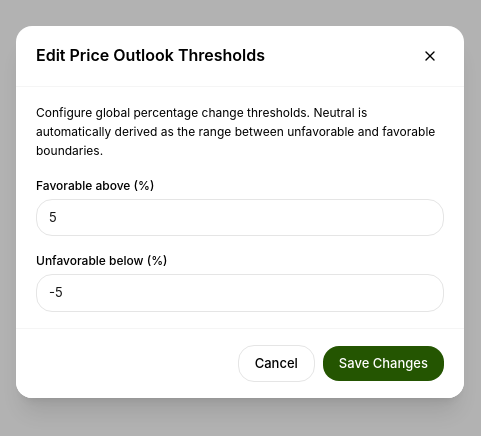
Test case: EditPriceOutlookModal › does not claim success when the write is rejected
The width and height of the screenshot is (481, 436).
Click the button "Save Changes": (383, 363) [323, 346, 444, 381]
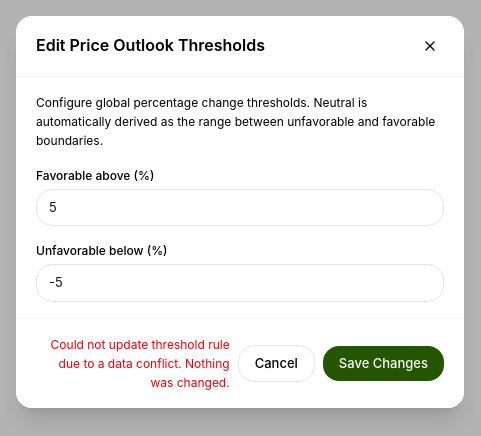
Expected: the text "Nothing was changed" is shown, [51, 336, 230, 390]
